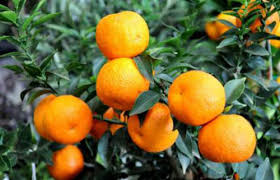orange: (167, 68, 225, 122), (198, 109, 256, 163), (126, 97, 181, 152), (95, 59, 153, 109), (94, 14, 151, 57), (48, 92, 93, 141)
